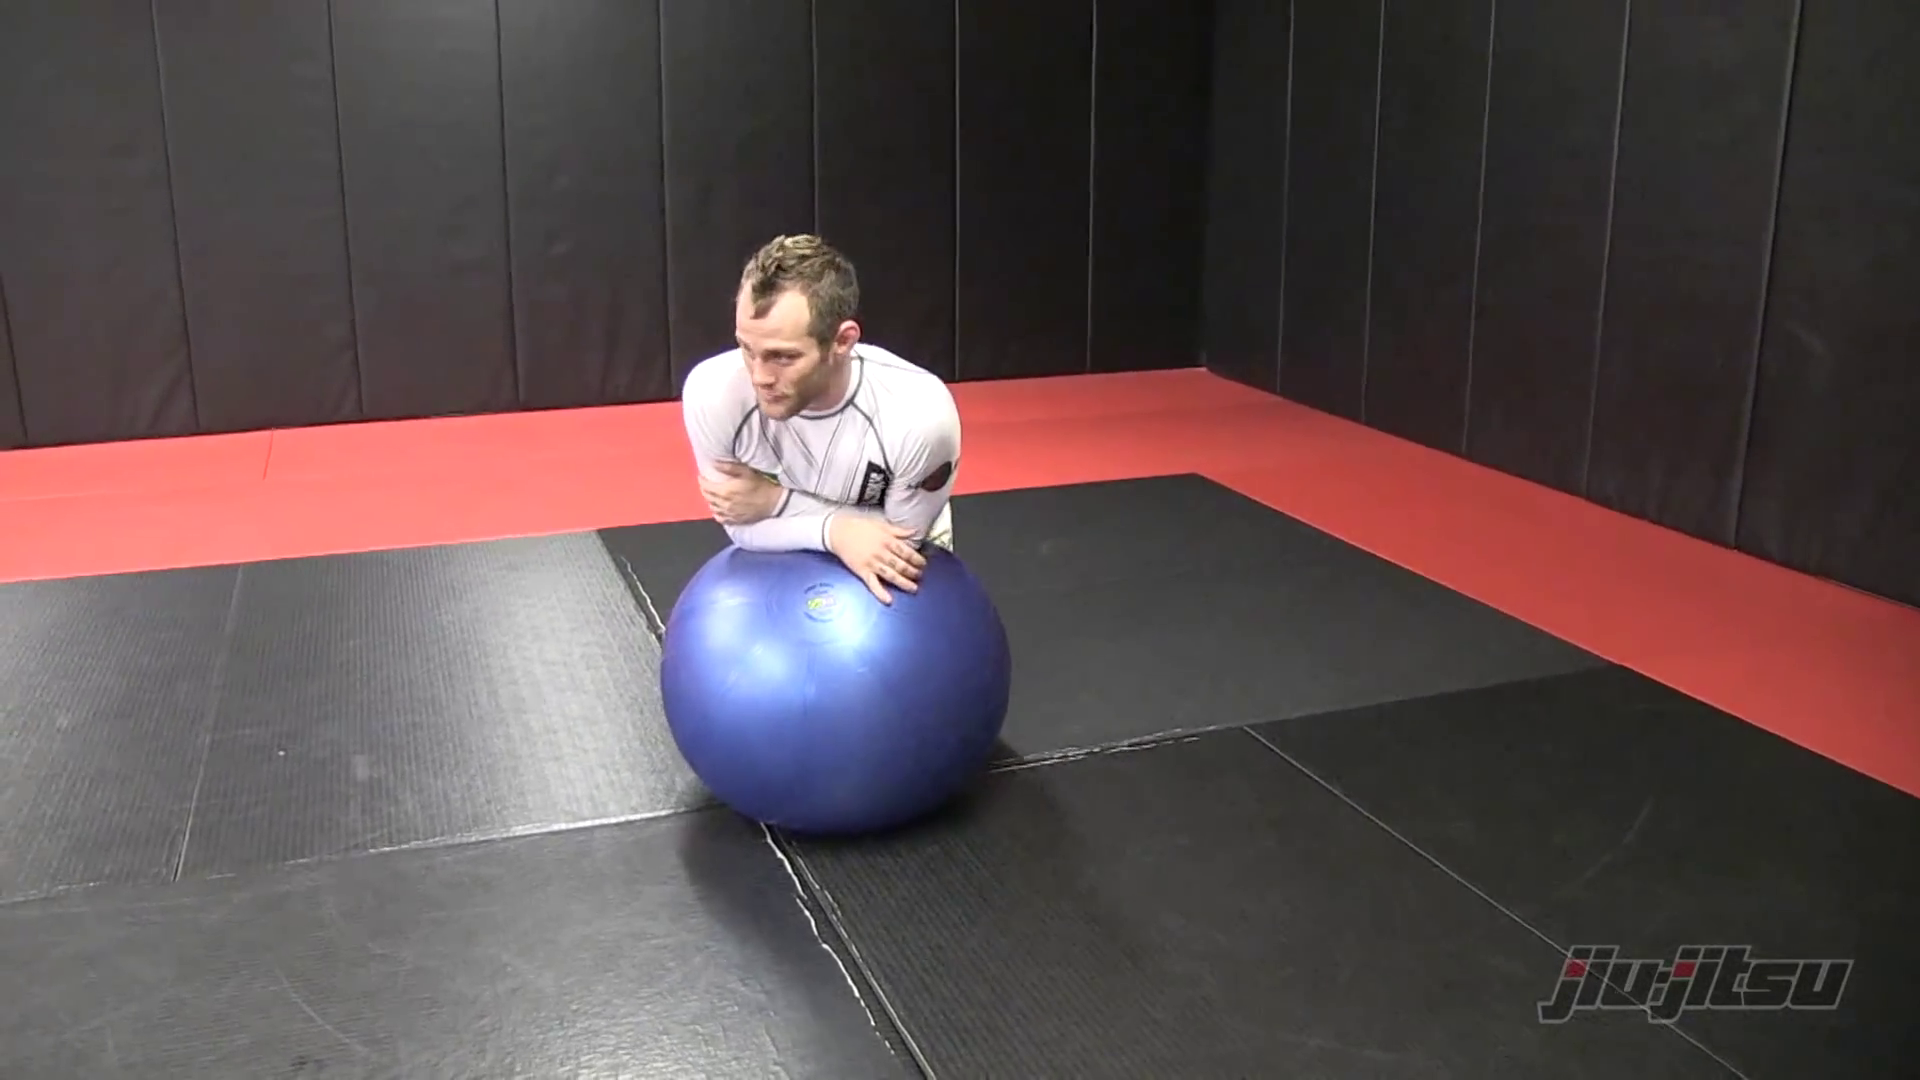yogaball: (646, 516, 1038, 857)
